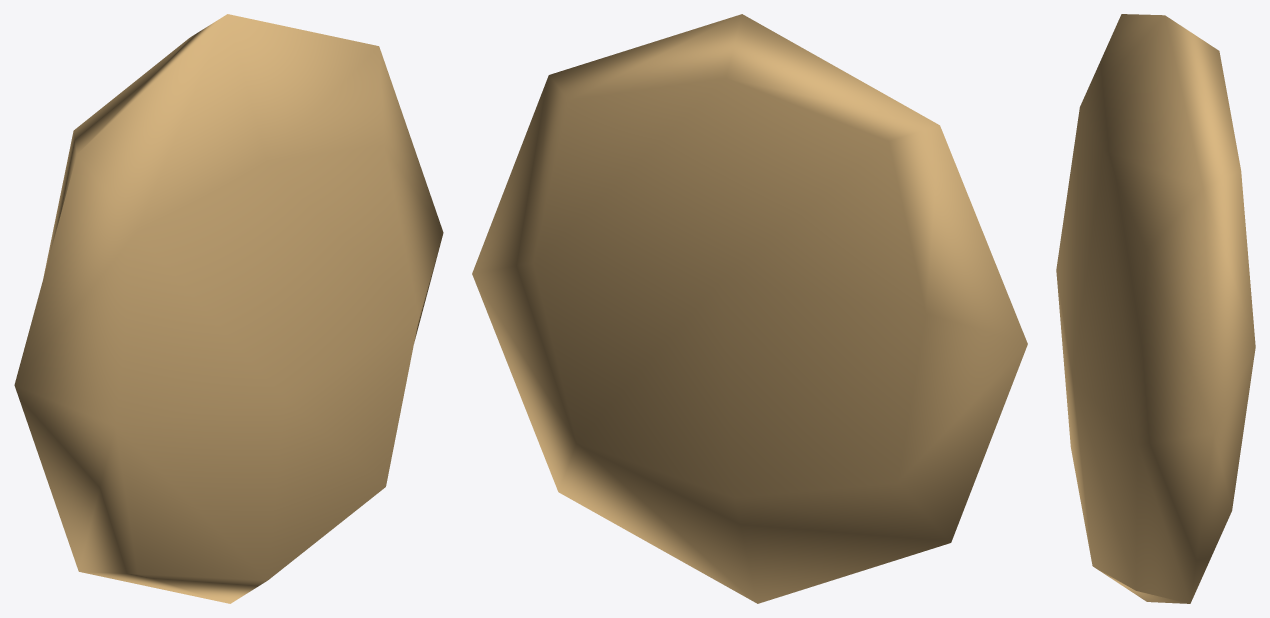
File: claw_T2_right_lower.obj
3 views of the same model, side by side, from view 1: azimuth 30°, elevation 25°; view 2: azimuth 150°, elevation 25°; view 3: azimuth 270°, elevation 25° (orthographic). The views are drawn at different scales.
Size of the model in its own units: 0.00314 by 0.00359 by 0.0011.
